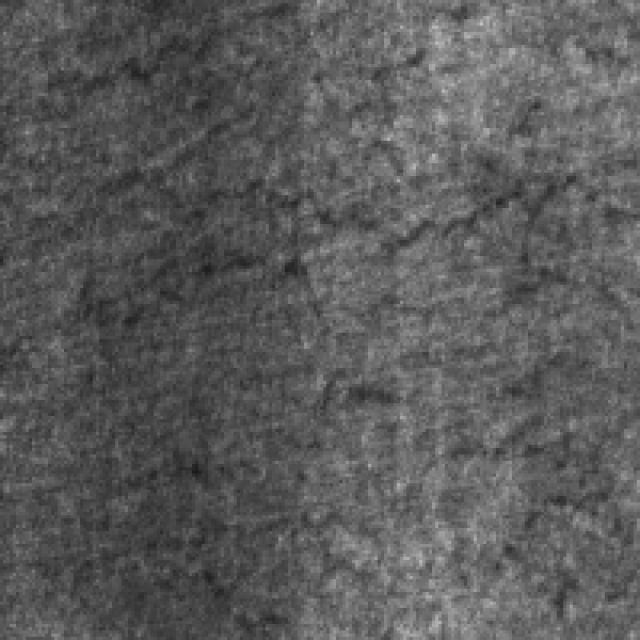crazing: (60, 157, 618, 323), (336, 346, 621, 598)
